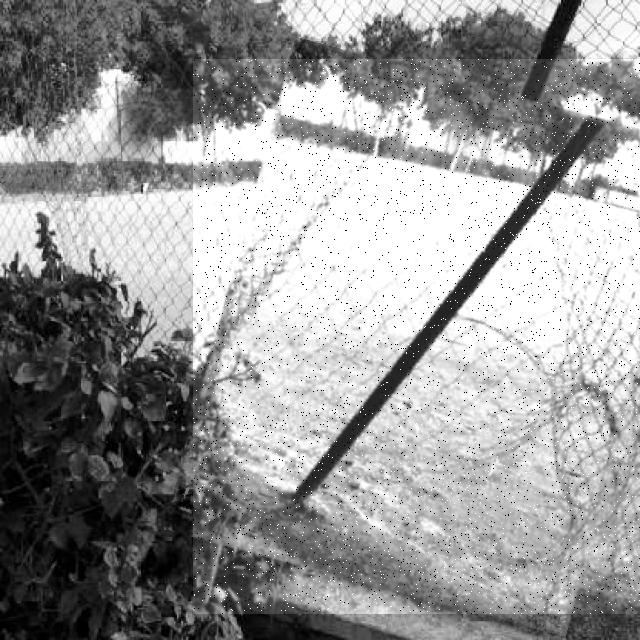anomaly-fence: (193, 59, 640, 614)
